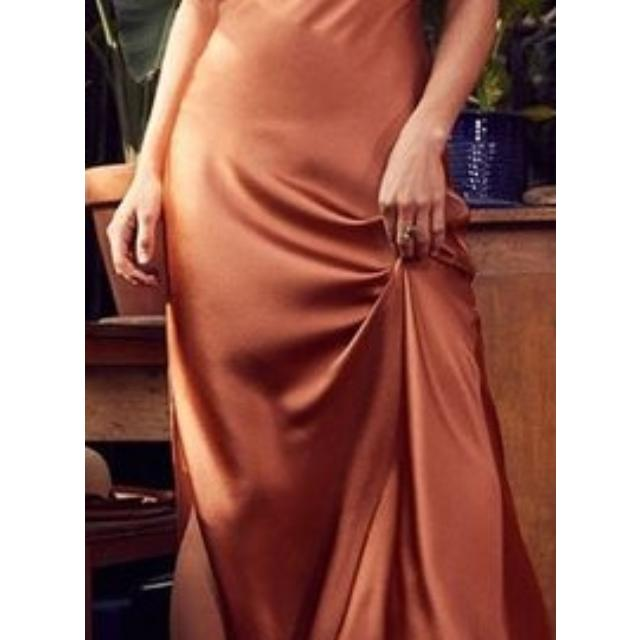silk: (162, 0, 556, 640)
